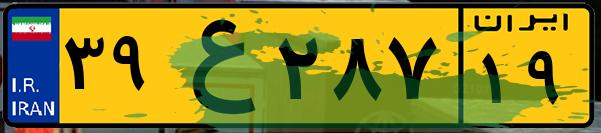1: (475, 38, 525, 113)
2: (270, 28, 330, 110)
3: (57, 26, 110, 100)
7: (385, 28, 445, 110)
8: (330, 28, 385, 110)
9: (525, 38, 570, 115), (110, 28, 158, 98)
ع: (158, 12, 270, 120)
